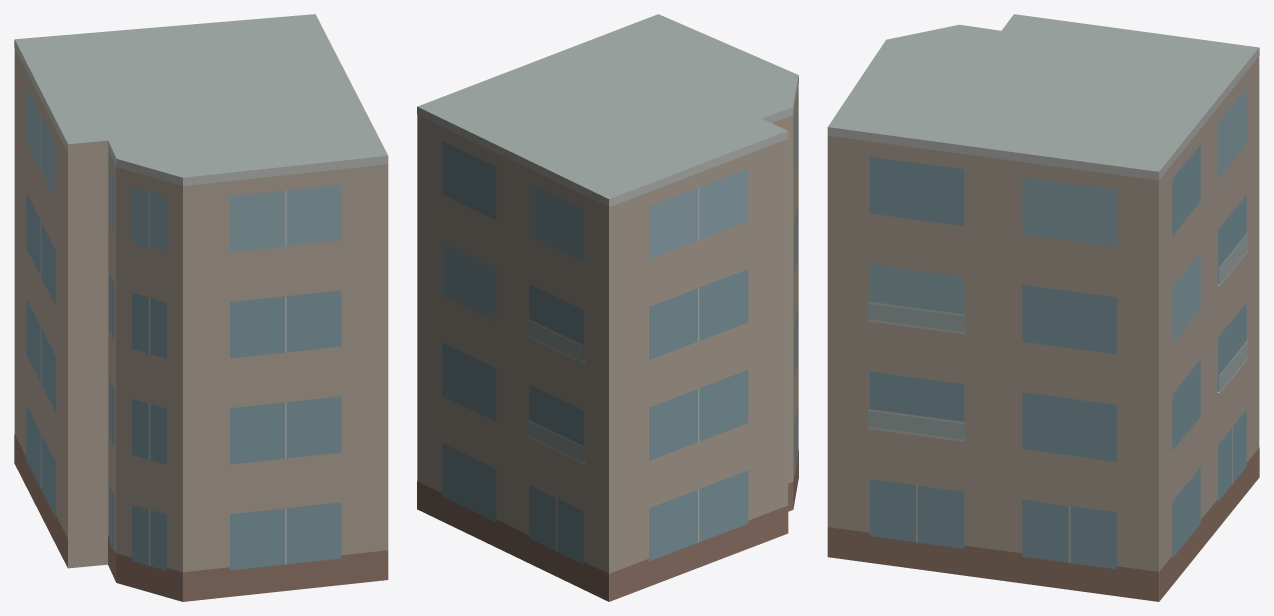
File: survey-upis-32724425.glb
3 renders of one model, left to right at view 1: azimuth 30°, elevation 25°; view 2: azimuth 150°, elevation 25°; view 3: azimuth 270°, elevation 25°, orthographic. The views are drawn at different scales.
Parts seen in each view (by area): view 1: survey-upis-32724425.tmp; view 2: survey-upis-32724425.tmp; view 3: survey-upis-32724425.tmp.
Part boxes in pixels (bbox=[...]): survey-upis-32724425.tmp: bbox=[14, 14, 388, 601]; survey-upis-32724425.tmp: bbox=[417, 14, 798, 601]; survey-upis-32724425.tmp: bbox=[827, 14, 1259, 601].
Bounding box in the file's own units: 9.62 × 12.2 × 11.11.
